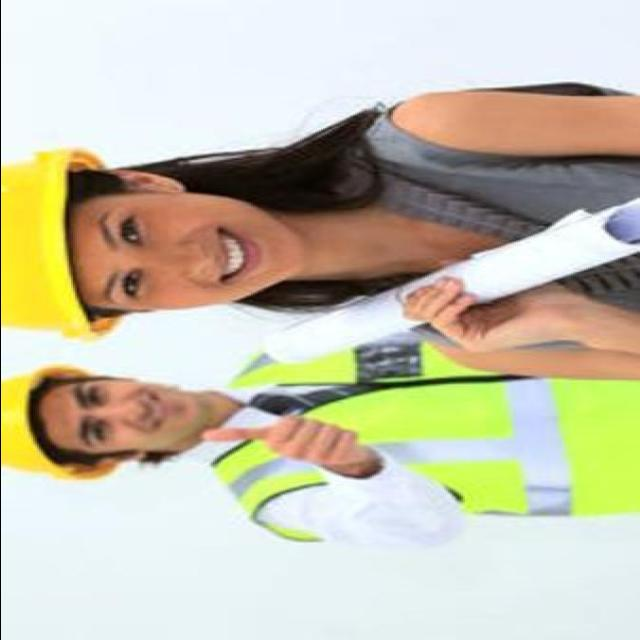helmet: (0, 144, 92, 342), (0, 356, 85, 501)
jacket: (219, 341, 639, 558)
